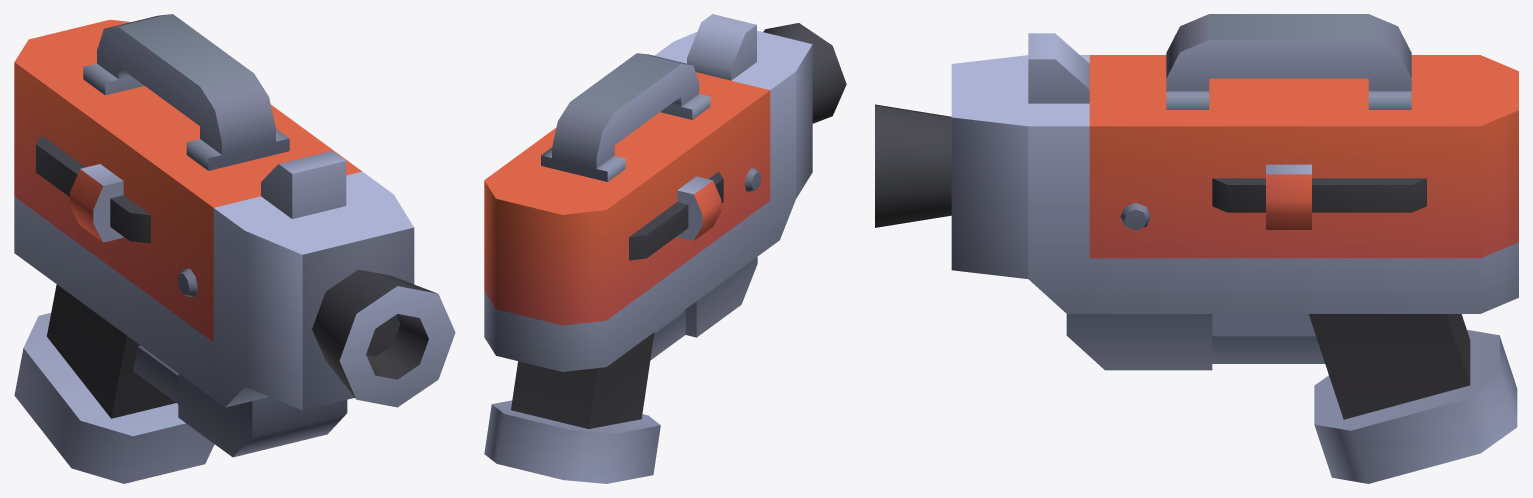
File: gun_pistol.glb
The picture shows the model from 3 angles, left to right: view 1: azimuth 30°, elevation 25°; view 2: azimuth 150°, elevation 25°; view 3: azimuth 270°, elevation 25°; orthographic projection. The views are drawn at different scales.
Visible parts, largest first — view 1: blaster-b; view 2: blaster-b; view 3: blaster-b.
Boxes of the visible parts, bbox=[...] form: blaster-b: bbox=[14, 14, 455, 483]; blaster-b: bbox=[484, 14, 846, 483]; blaster-b: bbox=[875, 14, 1518, 483].
Bounding box in the file's own units: 0.1181 × 0.2365 × 0.32.
1 material, 1 textured.
